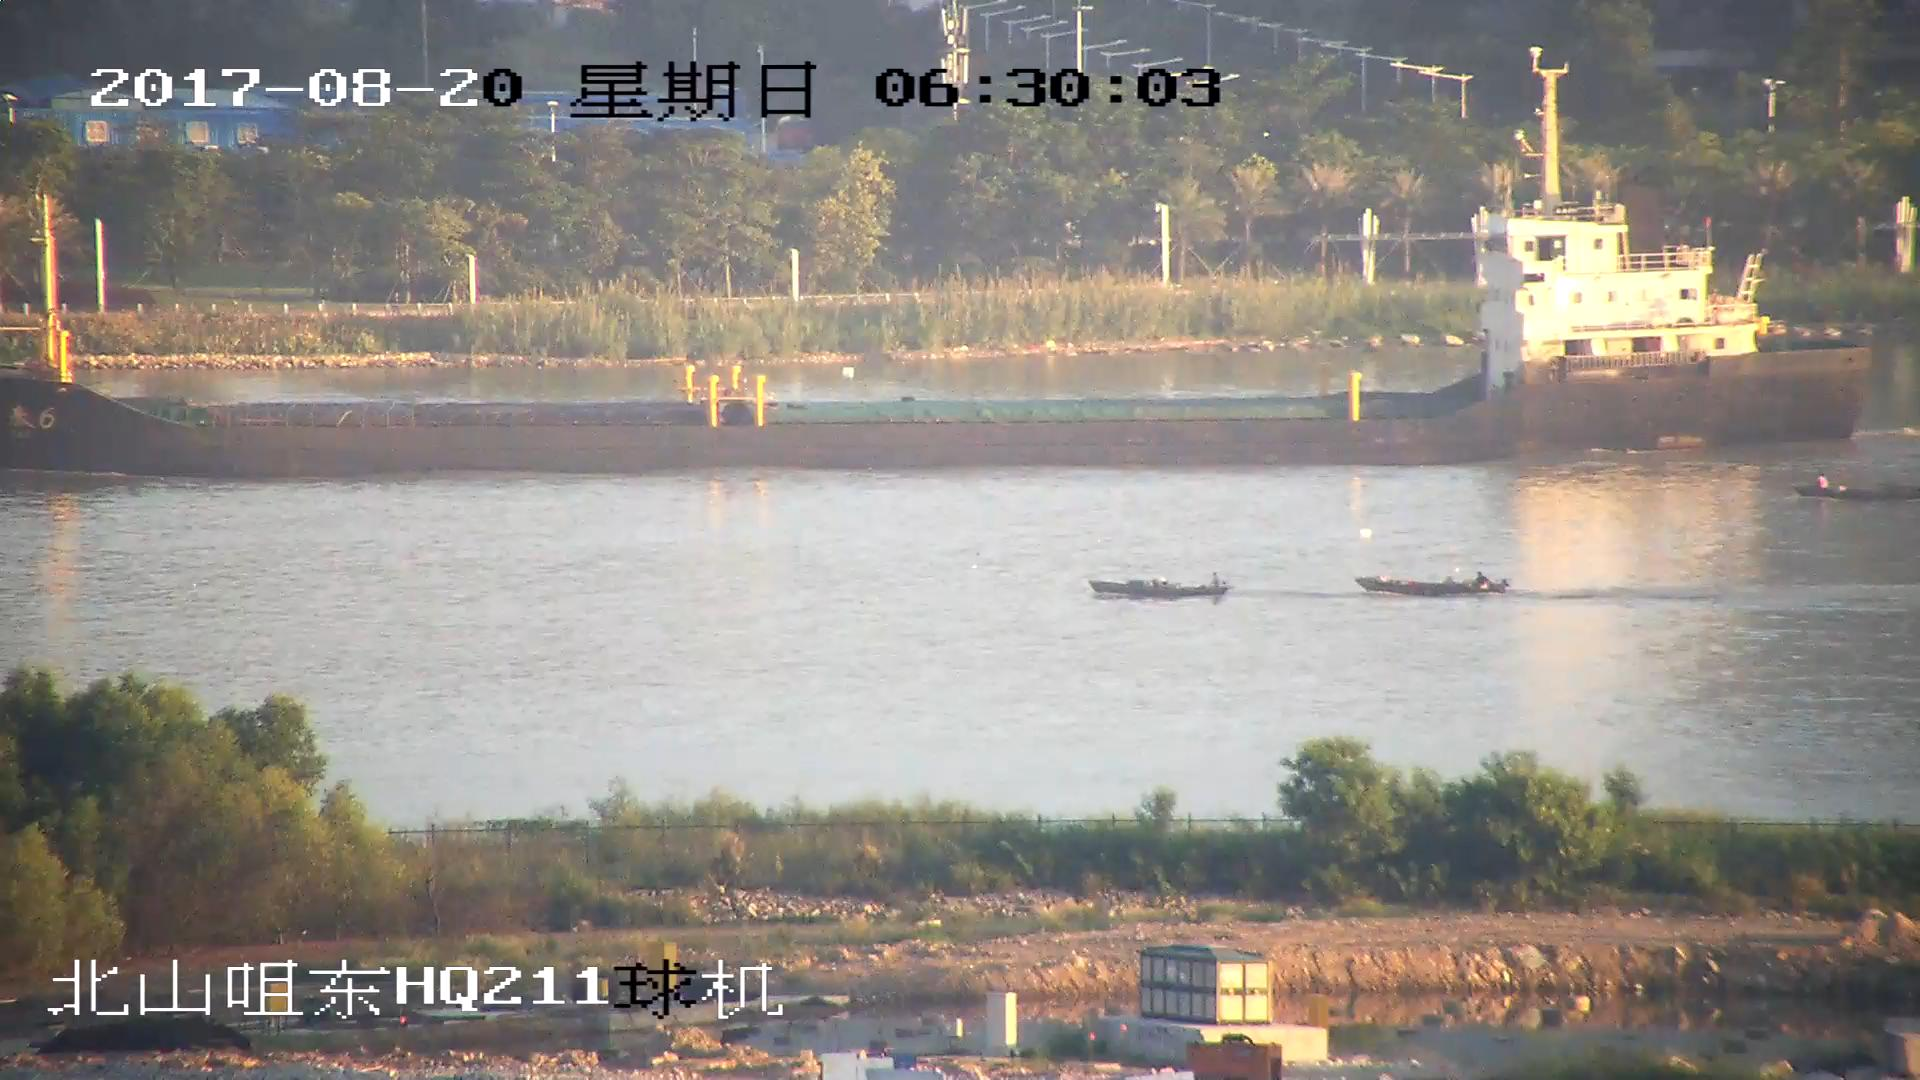fishing boat: (1361, 566, 1513, 598), (1091, 574, 1233, 604), (1801, 468, 1920, 500)
general cargo ship: (1, 121, 1867, 474)
